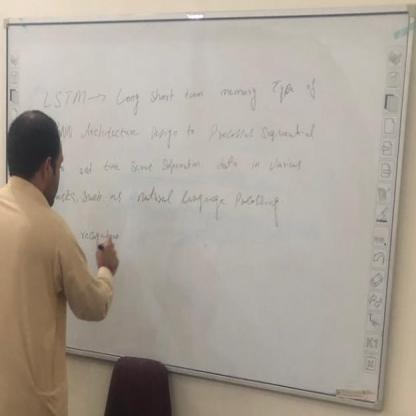Handwritten text: (34, 73, 325, 111), (76, 185, 293, 227), (84, 117, 322, 150), (76, 155, 312, 182)
Lecturer: (0, 109, 108, 416)
